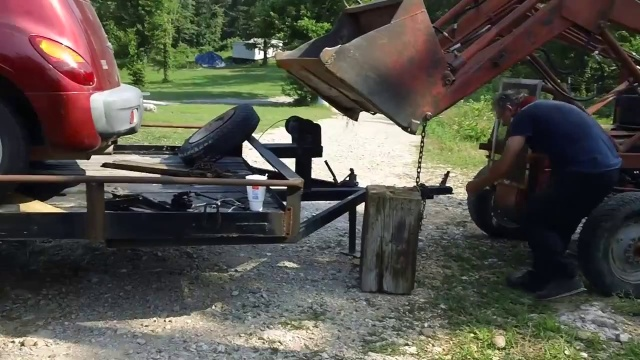person: (472, 90, 623, 296)
